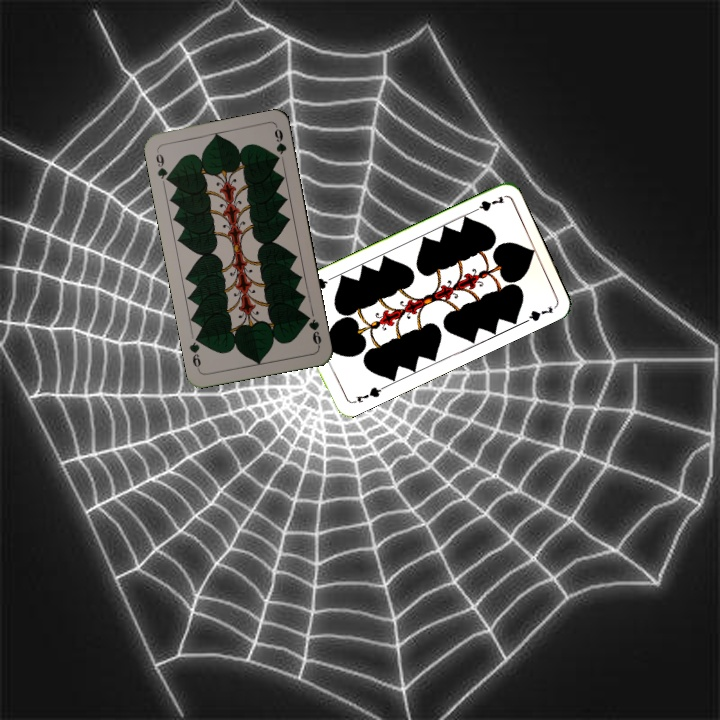G7: (467, 192, 507, 215), (349, 383, 387, 406)
G9: (301, 310, 324, 349), (152, 147, 173, 185)
